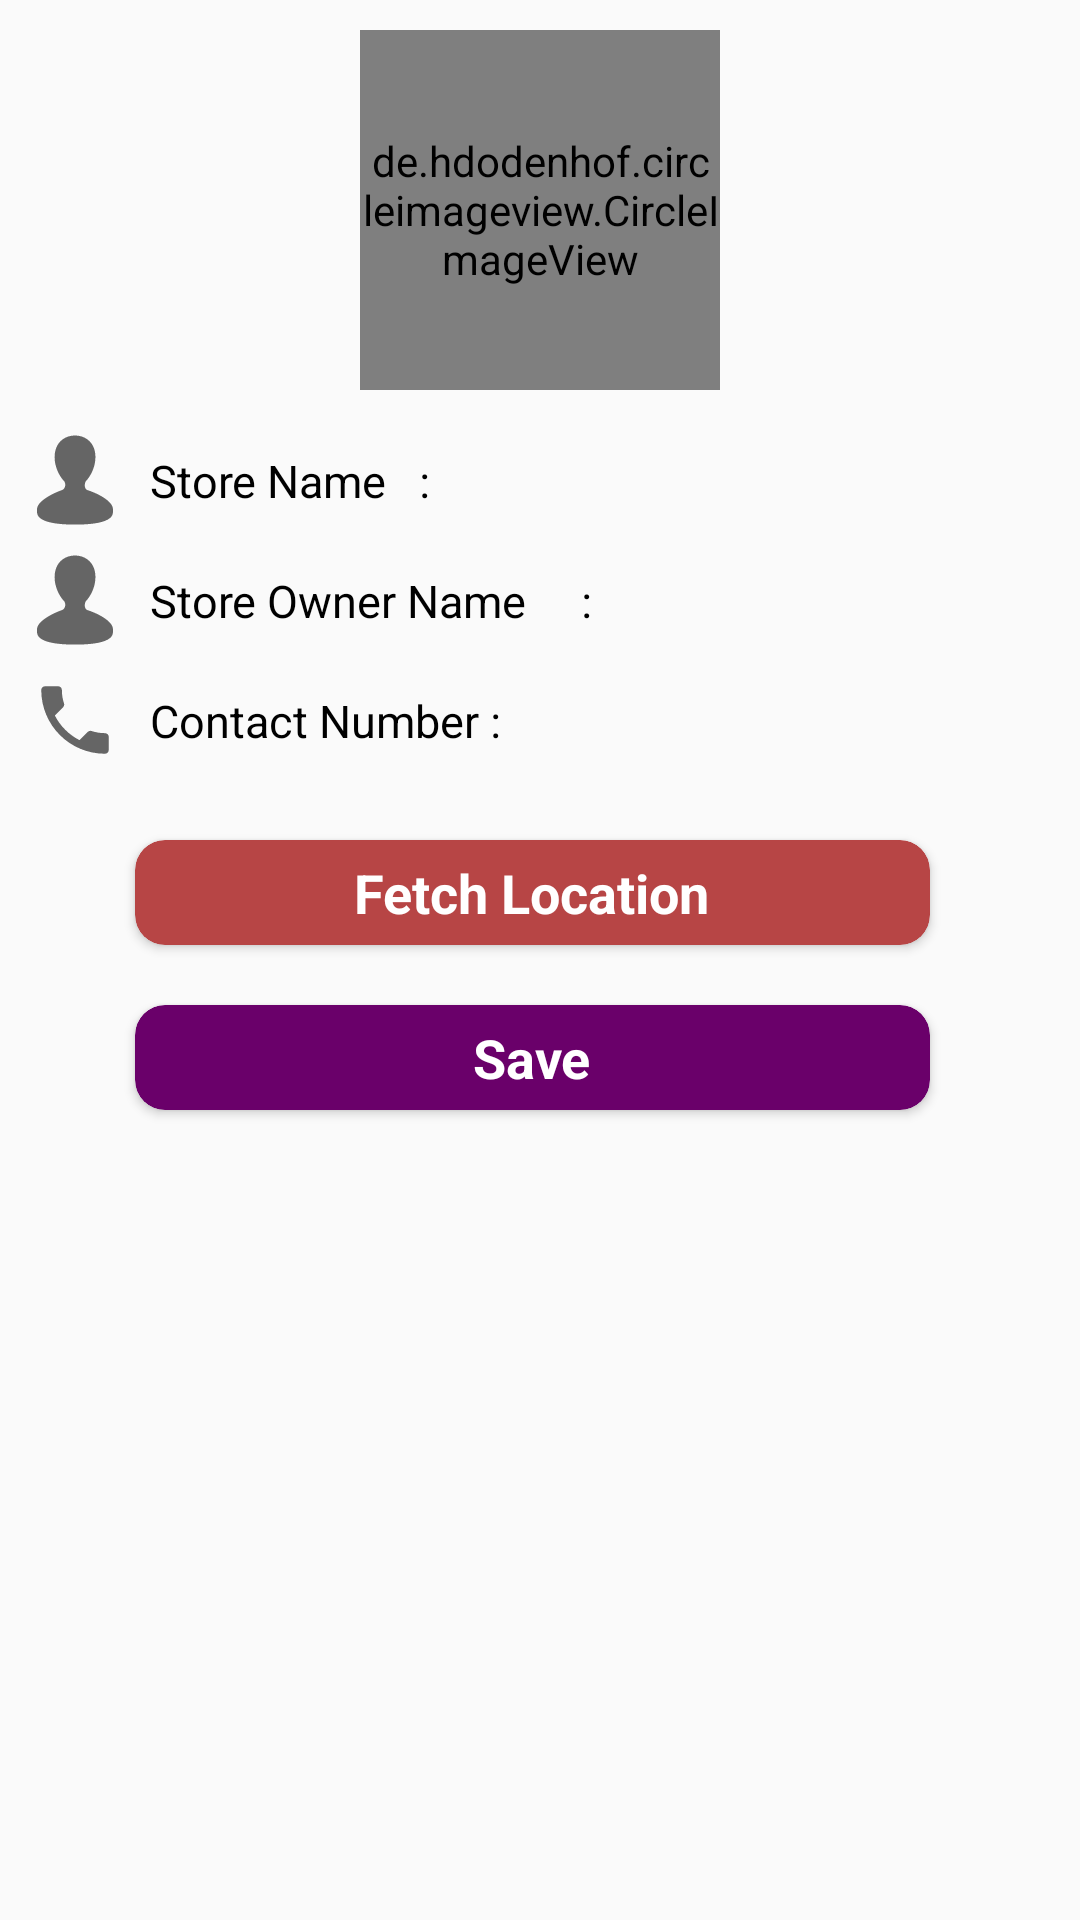

Icon click points for this 1080x1920 phone screenshot, format (x,y):
phone: (75,720)
